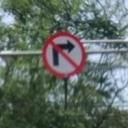NoVirarDireita: (42, 32, 86, 78)
